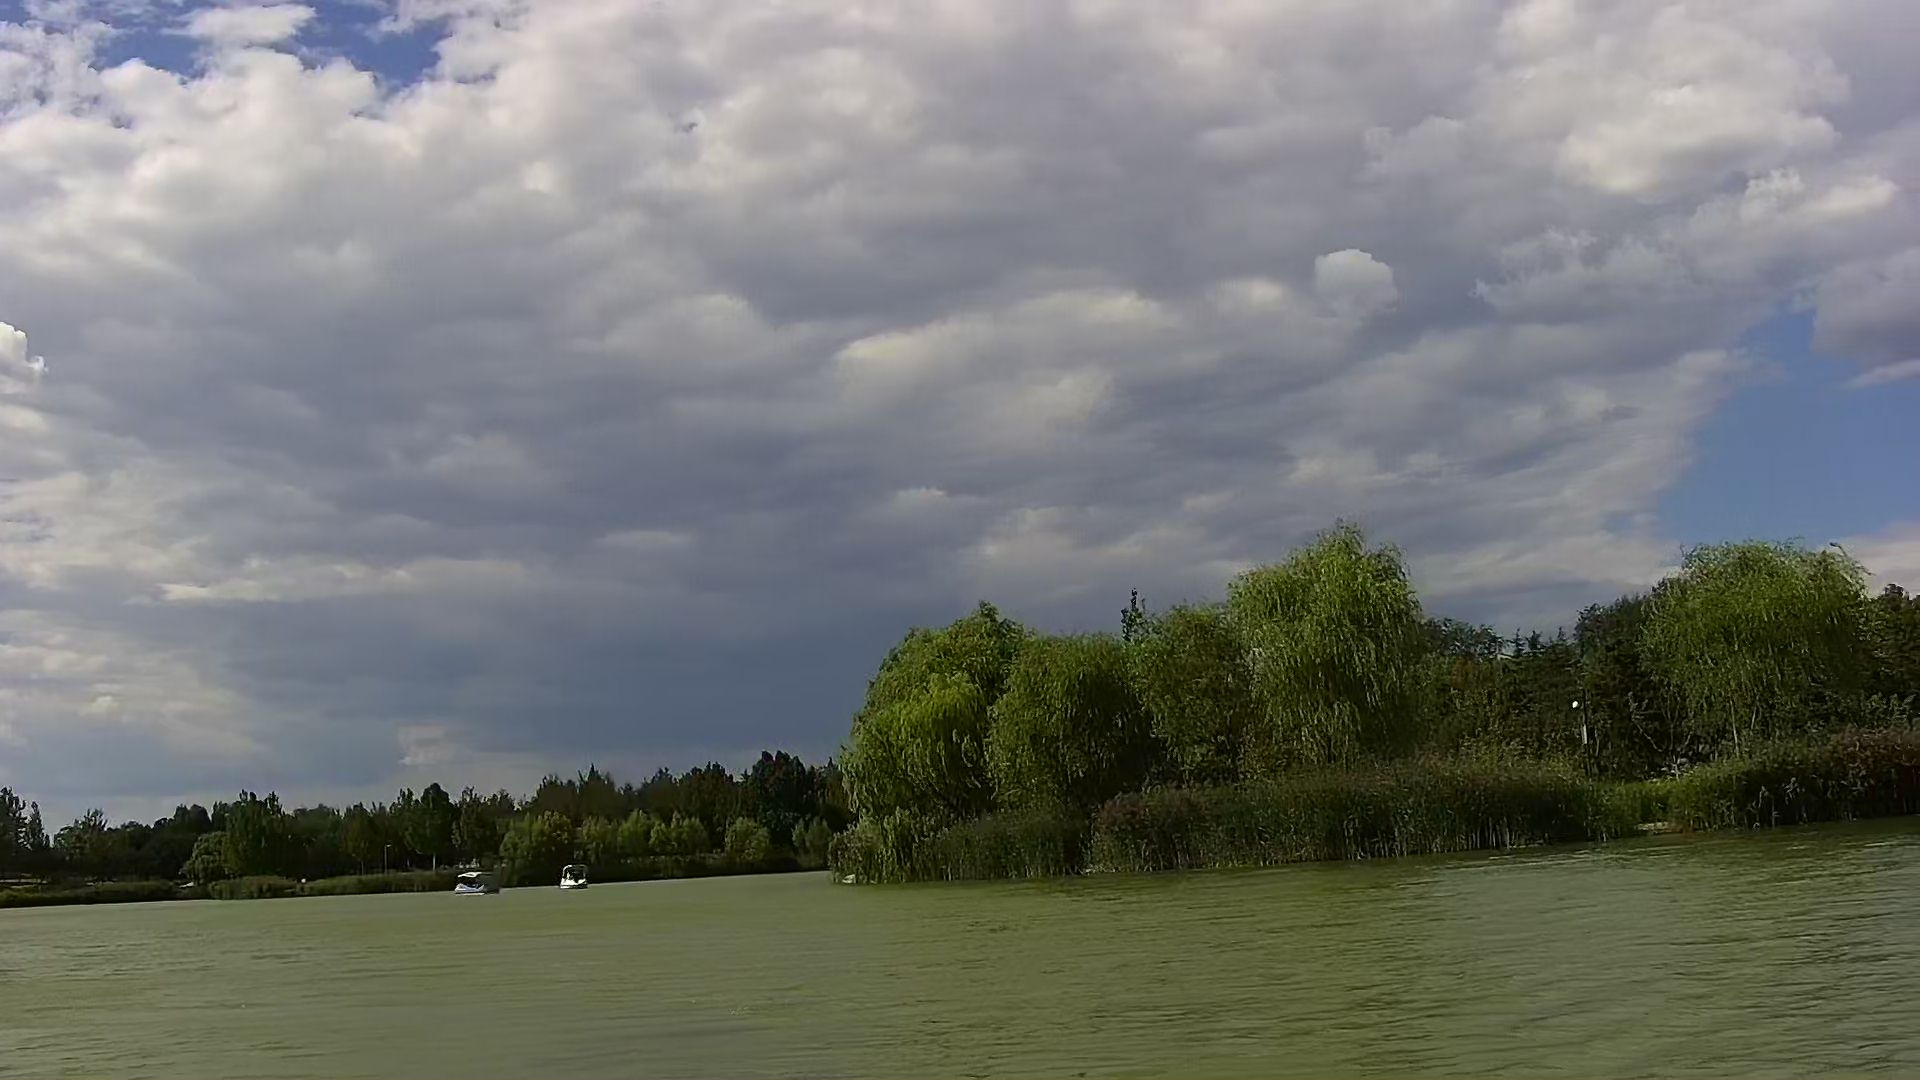boat: (454, 864, 501, 898), (556, 865, 588, 893)
